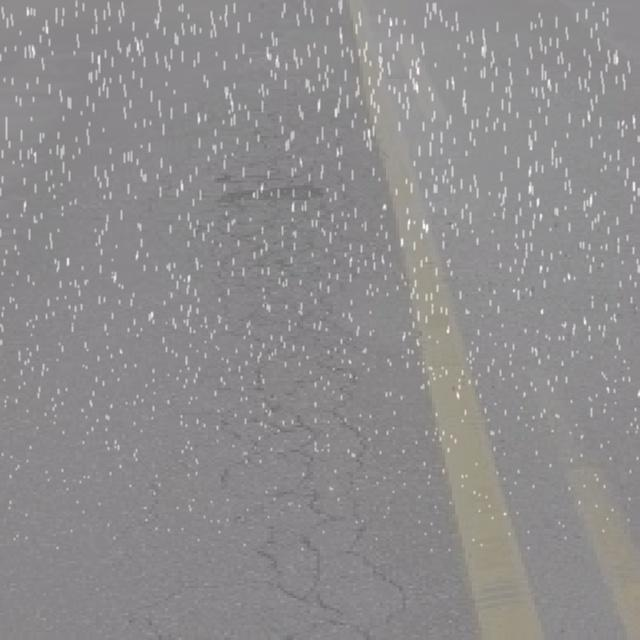Pothole: (215, 322, 422, 633), (193, 154, 344, 214)
